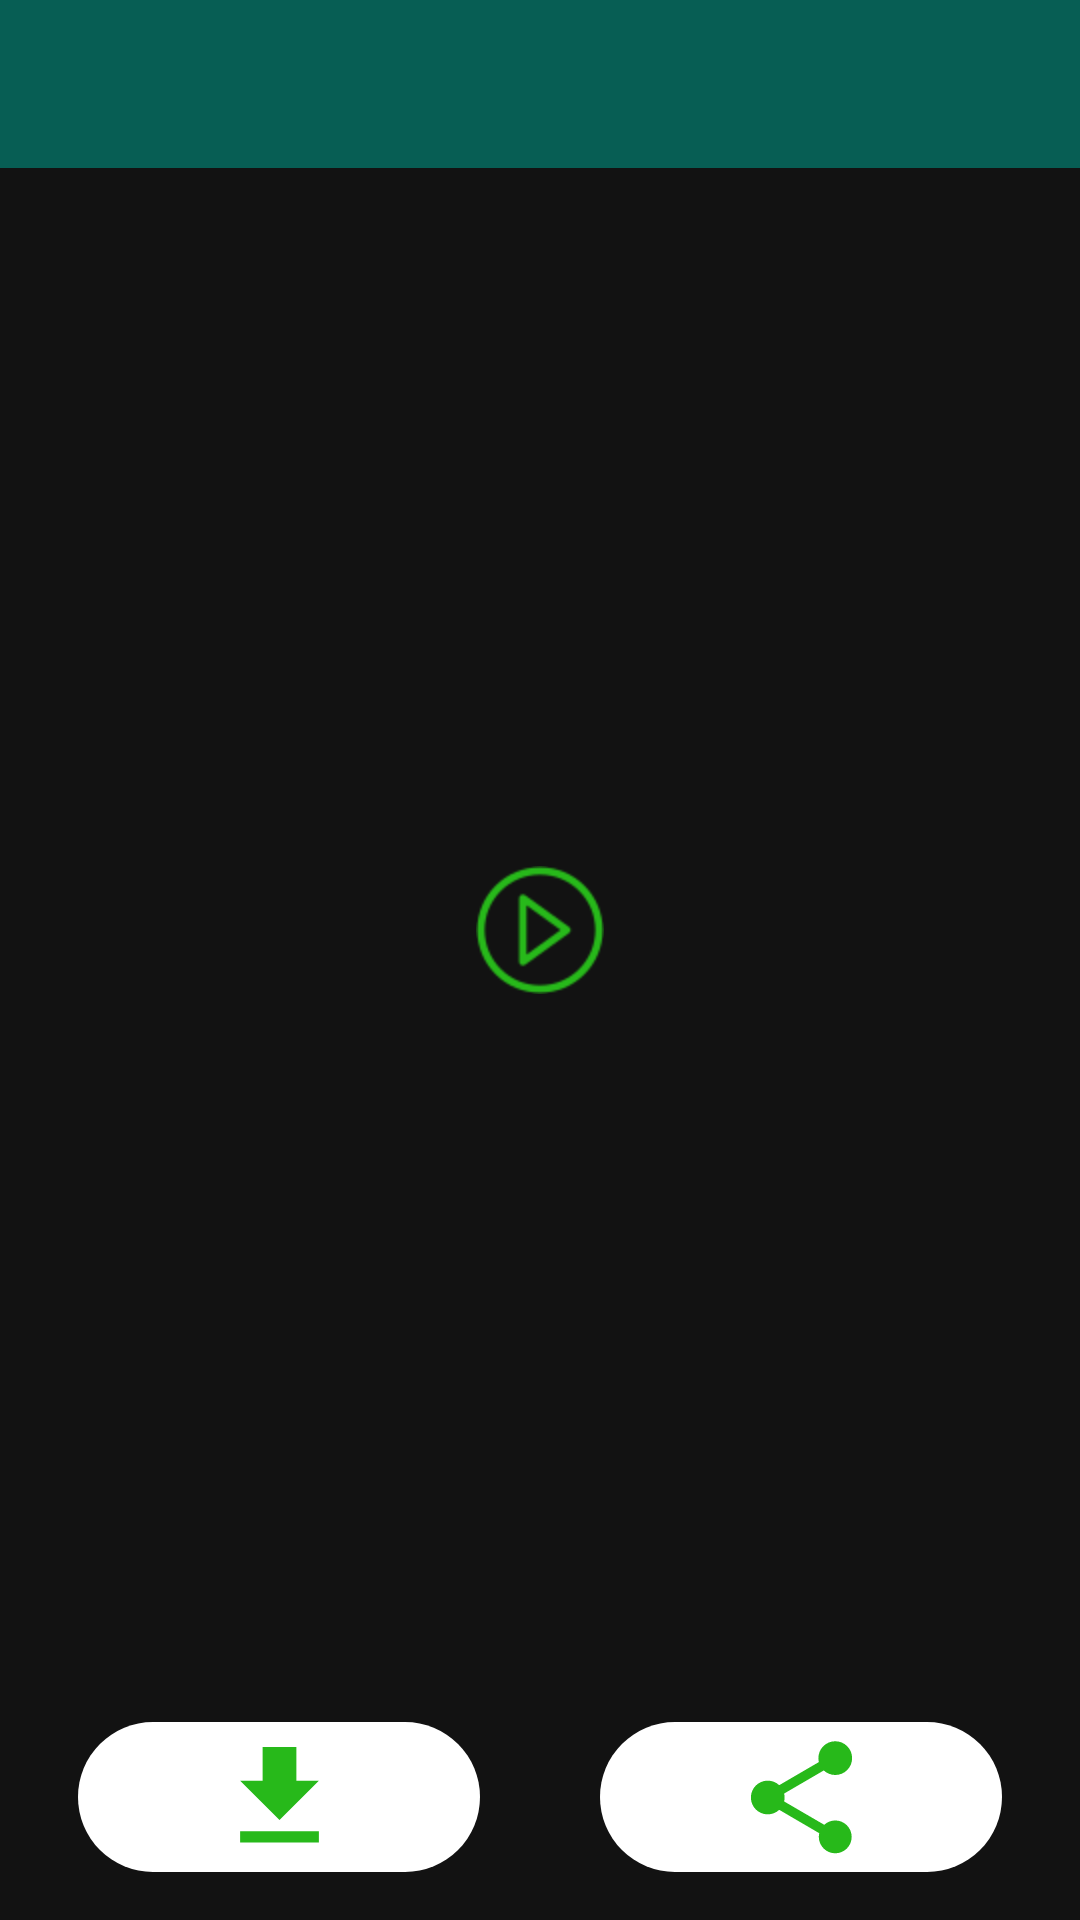

Point at icon controls on the screen. Image size 1080px×1920px, points as (x,y).
play: (540,930)
